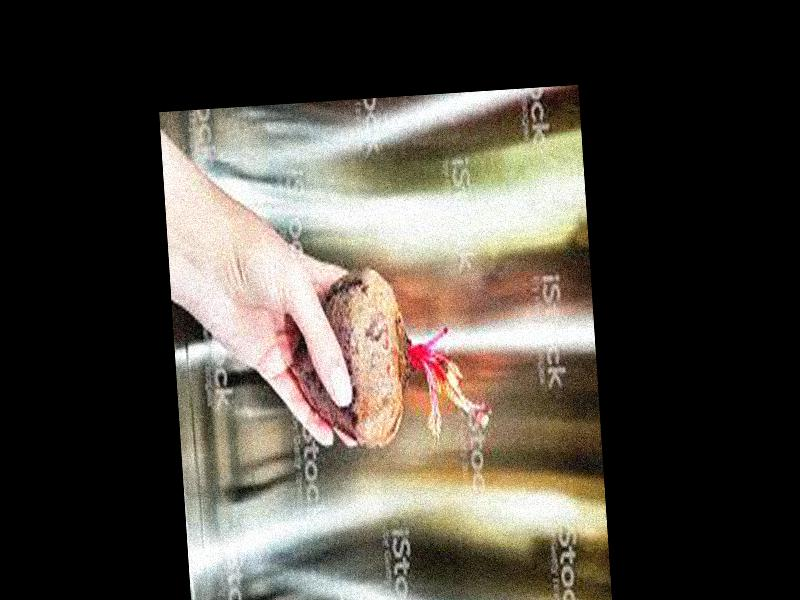Beet: (287, 263, 488, 452)
